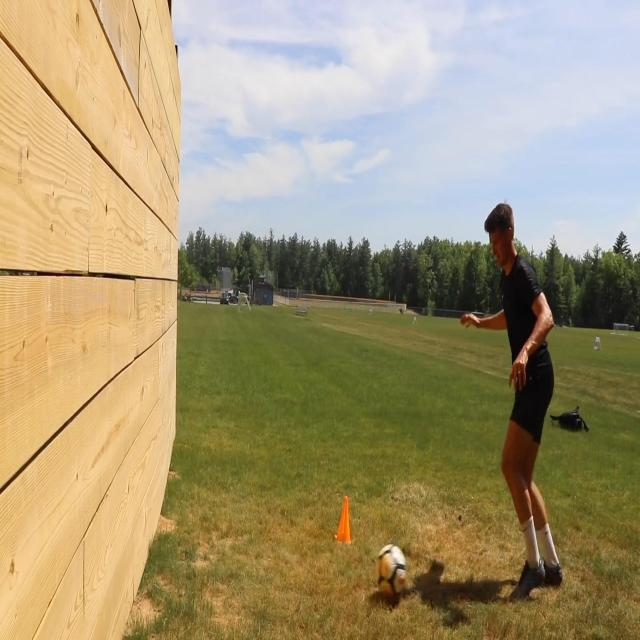Soccer Ball: (375, 543, 408, 602)
